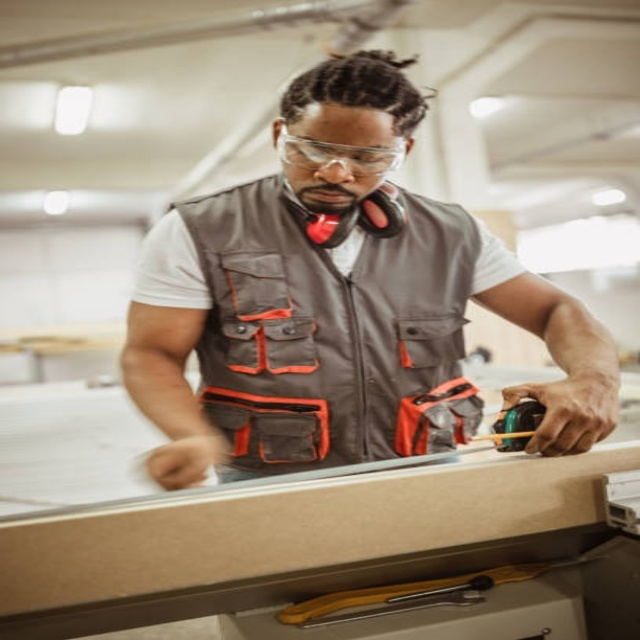Gafas: (281, 124, 409, 175)
Sin_guantes: (499, 371, 620, 458), (144, 434, 225, 491)
Sin_mascara: (293, 182, 361, 213)
